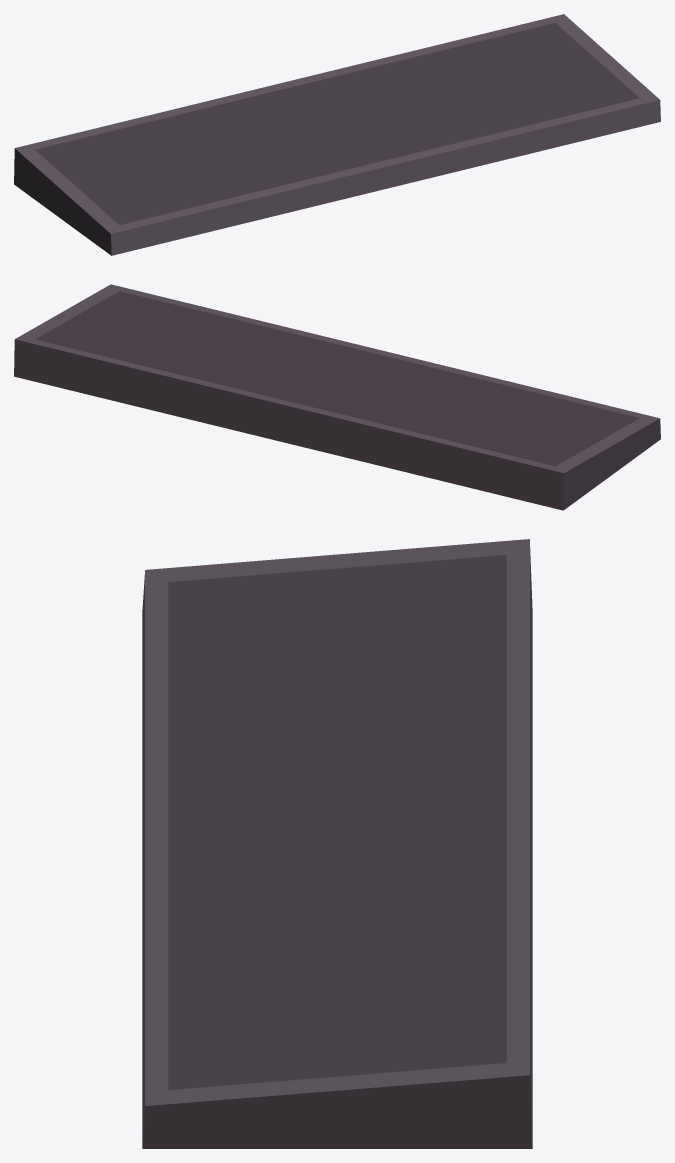
The model's file is keyboard.fbx.
3 views of the same model, one above another, from view 1: azimuth 30°, elevation 25°; view 2: azimuth 150°, elevation 25°; view 3: azimuth 270°, elevation 25° (orthographic). The views are drawn at different scales.
Visible parts, largest first — view 1: keyboard; view 2: keyboard; view 3: keyboard.
Boxes of the visible parts, <box> form: keyboard: <box>14,14,660,255</box>; keyboard: <box>14,284,660,510</box>; keyboard: <box>142,539,532,1148</box>.
Bounding box in the file's own units: 103 × 6.59 × 31.61.
